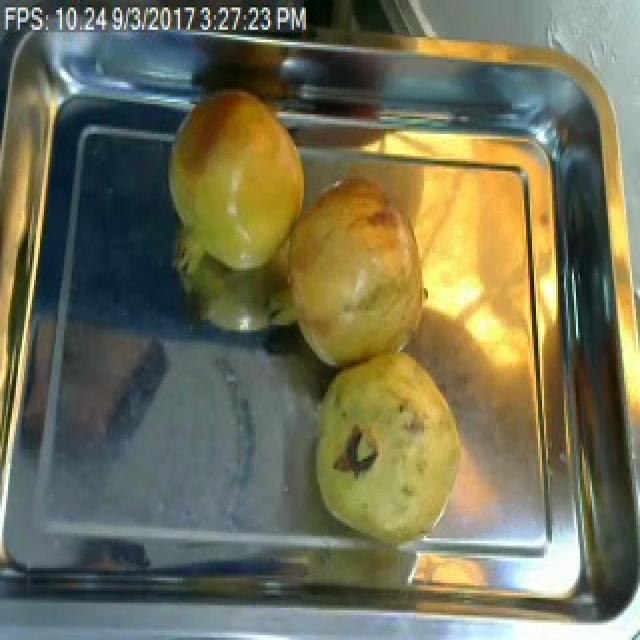fruit: (302, 335, 472, 558), (262, 166, 436, 380), (160, 82, 316, 283)
